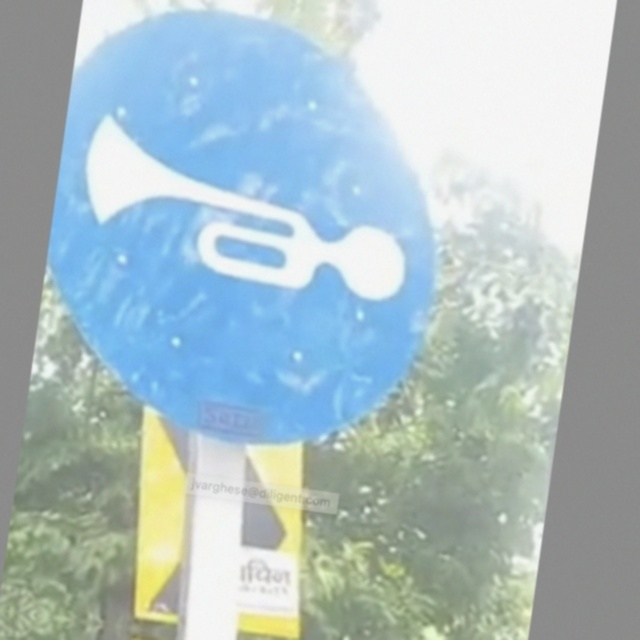Compulsory_Sound_Horn: (48, 37, 438, 390)
